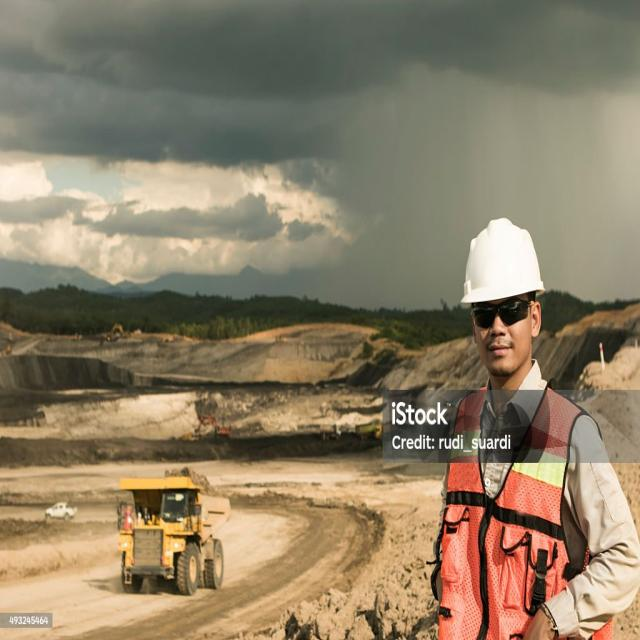glasses: (462, 295, 536, 331)
